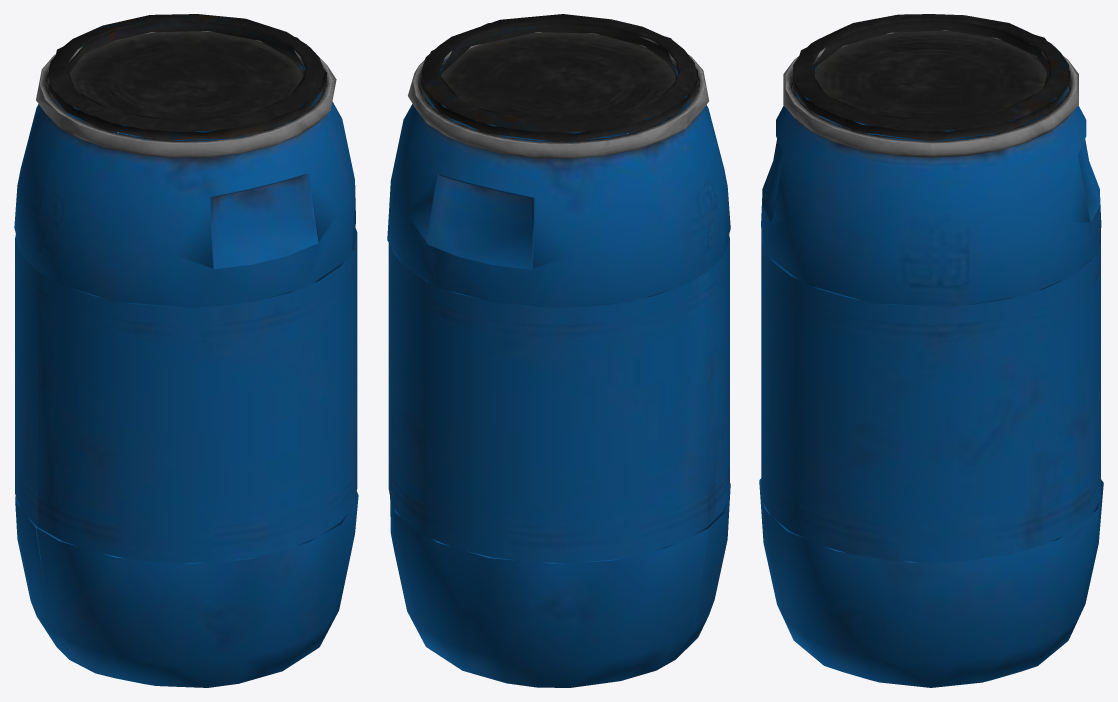
The model's file is barrel_02.glb.
3 renders of one model, left to right at view 1: azimuth 30°, elevation 25°; view 2: azimuth 150°, elevation 25°; view 3: azimuth 270°, elevation 25°, orthographic.
Parts seen in each view (by area): view 1: barrel_02; view 2: barrel_02; view 3: barrel_02.
Part boxes in pixels (box(x1,y1,x2,y2)): barrel_02: box(14, 14, 358, 687); barrel_02: box(387, 14, 730, 687); barrel_02: box(759, 14, 1103, 687).
Size of the model in its own units: 0.4897 by 0.88 by 0.4892.
1 material, 1 textured.
